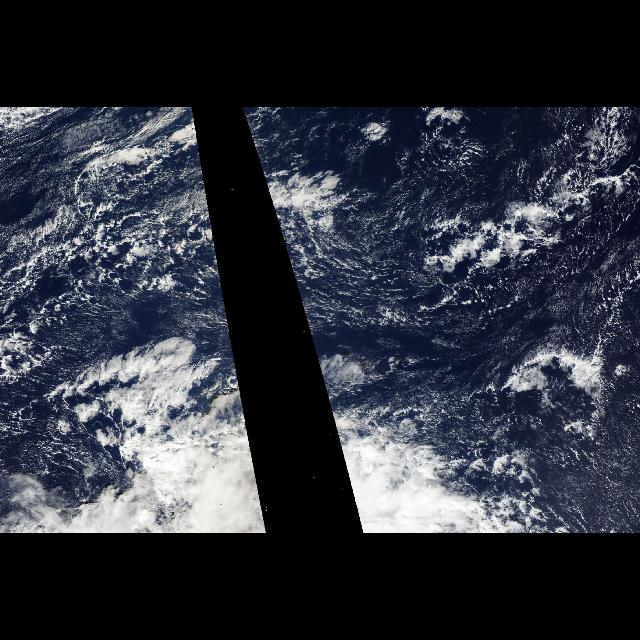Fish: (430, 196, 640, 296)
Gravel: (282, 121, 640, 534), (1, 224, 223, 326)
Sugar: (242, 110, 626, 200), (276, 208, 448, 329), (2, 110, 206, 200)
